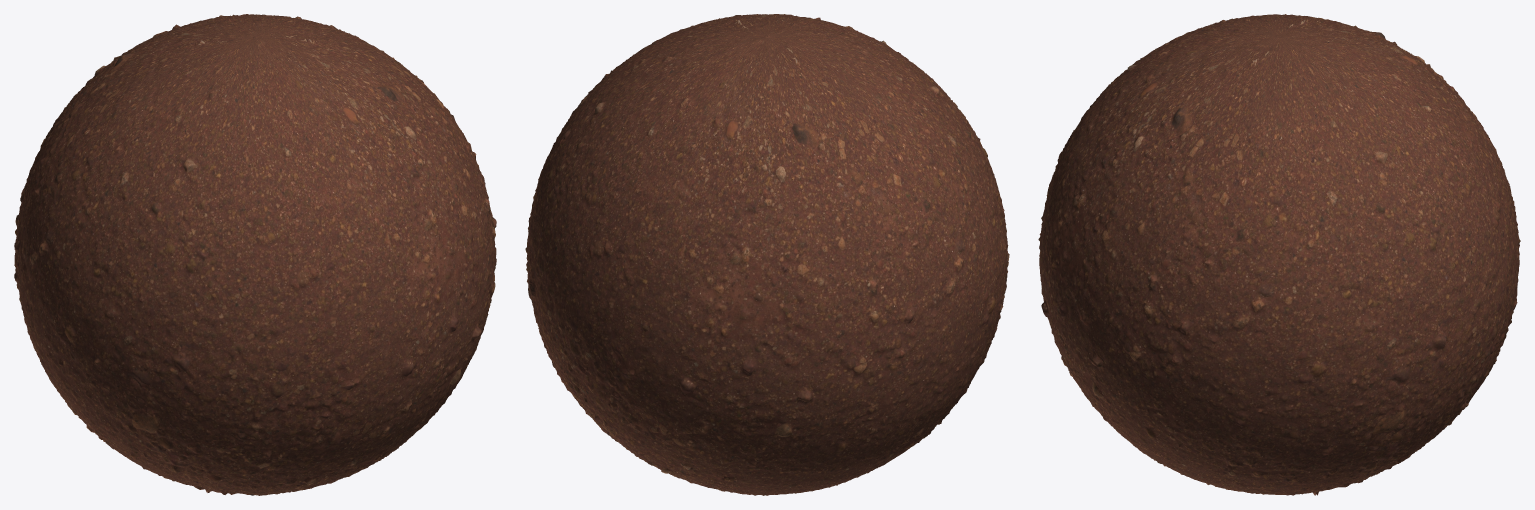
Rendered from red_laterite_soil_stones_1k.gltf.
The picture shows the model from 3 angles, left to right: view 1: azimuth 30°, elevation 25°; view 2: azimuth 150°, elevation 25°; view 3: azimuth 270°, elevation 25°; orthographic projection.
Parts seen in each view (by area): view 1: sphere_gltf; view 2: sphere_gltf; view 3: sphere_gltf.
Boxes of the visible parts, box(x1,y1,x2,y2) form: sphere_gltf: box(14, 14, 496, 495); sphere_gltf: box(525, 14, 1009, 495); sphere_gltf: box(1038, 14, 1520, 495).
Size of the model in its own units: 2 by 2.01 by 2.
1 material, 1 textured.
